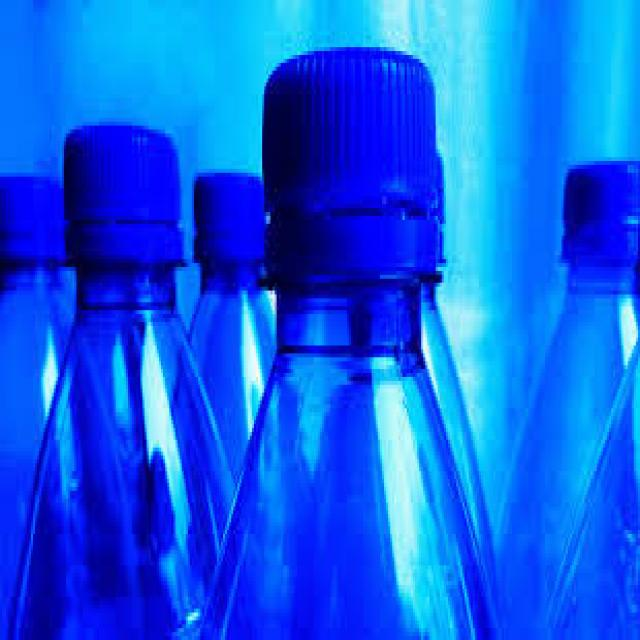Plastic: (194, 43, 511, 640), (4, 116, 242, 640), (557, 152, 640, 278)
